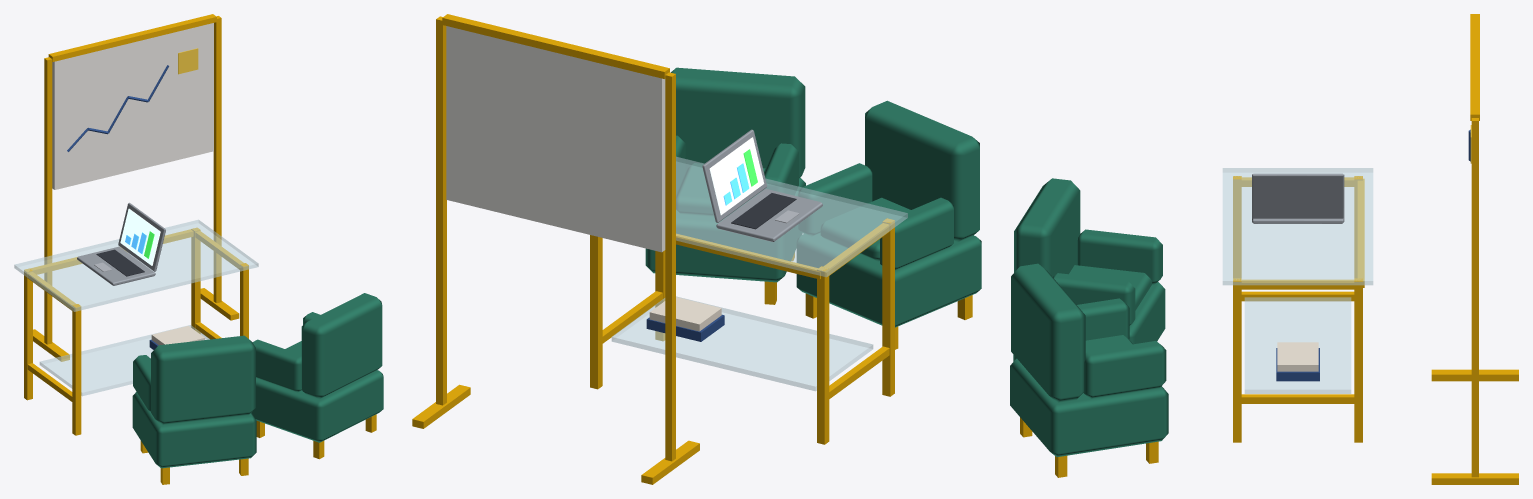
Rendered from station_buffer_1.glb.
The picture shows the model from 3 angles, left to right: view 1: azimuth 30°, elevation 25°; view 2: azimuth 150°, elevation 25°; view 3: azimuth 270°, elevation 25°; orthographic projection. The views are drawn at different scales.
Parts seen in each view (by area): view 1: station_buffer_1; view 2: station_buffer_1; view 3: station_buffer_1.
Boxes of the visible parts, x1=… form: station_buffer_1: x1=14, y1=14, x2=383, y2=484; station_buffer_1: x1=412, y1=14, x2=981, y2=484; station_buffer_1: x1=1010, y1=14, x2=1518, y2=484.
Size of the model in its own units: 1.48 by 1.66 by 2.1.
